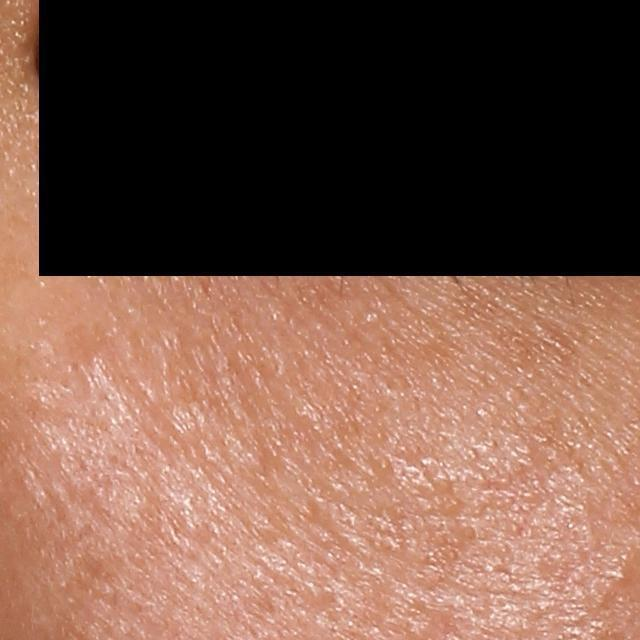comedo: (608, 565, 632, 588)
